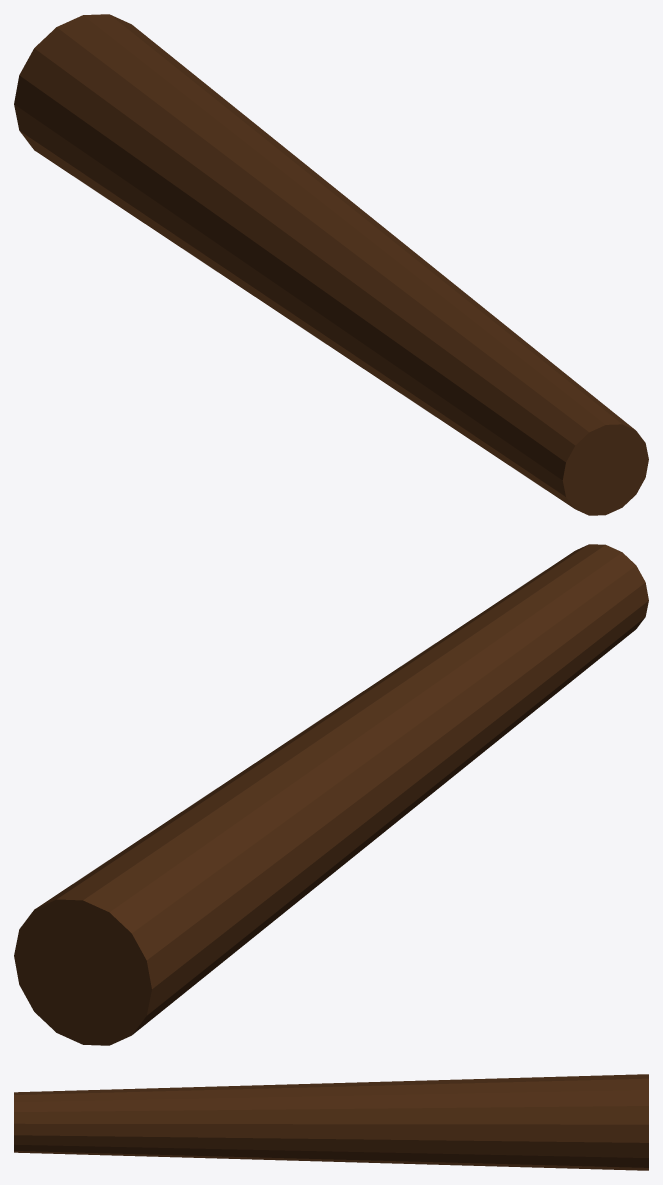
Rendered from SM_ShTreeTrunk.obj.
3 views of the same model, one above another, from view 1: azimuth 30°, elevation 25°; view 2: azimuth 150°, elevation 25°; view 3: azimuth 270°, elevation 25° (orthographic). The views are drawn at different scales.
Parts seen in each view (by area): view 1: SM_ShTreeTrunk; view 2: SM_ShTreeTrunk; view 3: SM_ShTreeTrunk.
Boxes of the visible parts, bbox=[...] form: SM_ShTreeTrunk: bbox=[14, 14, 648, 515]; SM_ShTreeTrunk: bbox=[14, 544, 648, 1045]; SM_ShTreeTrunk: bbox=[14, 1074, 648, 1170].
Bounding box in the file's own units: 32 × 32 × 210.
